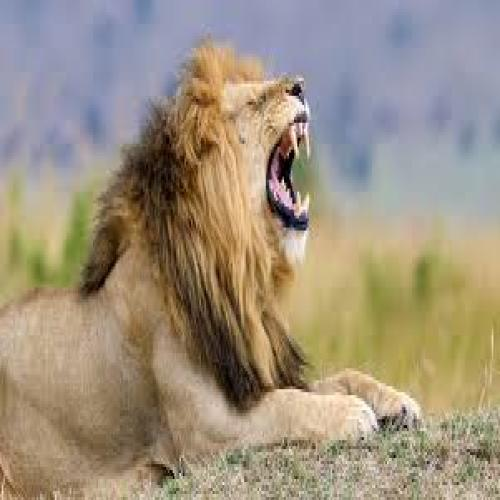lion-endangered: (0, 37, 421, 494)
